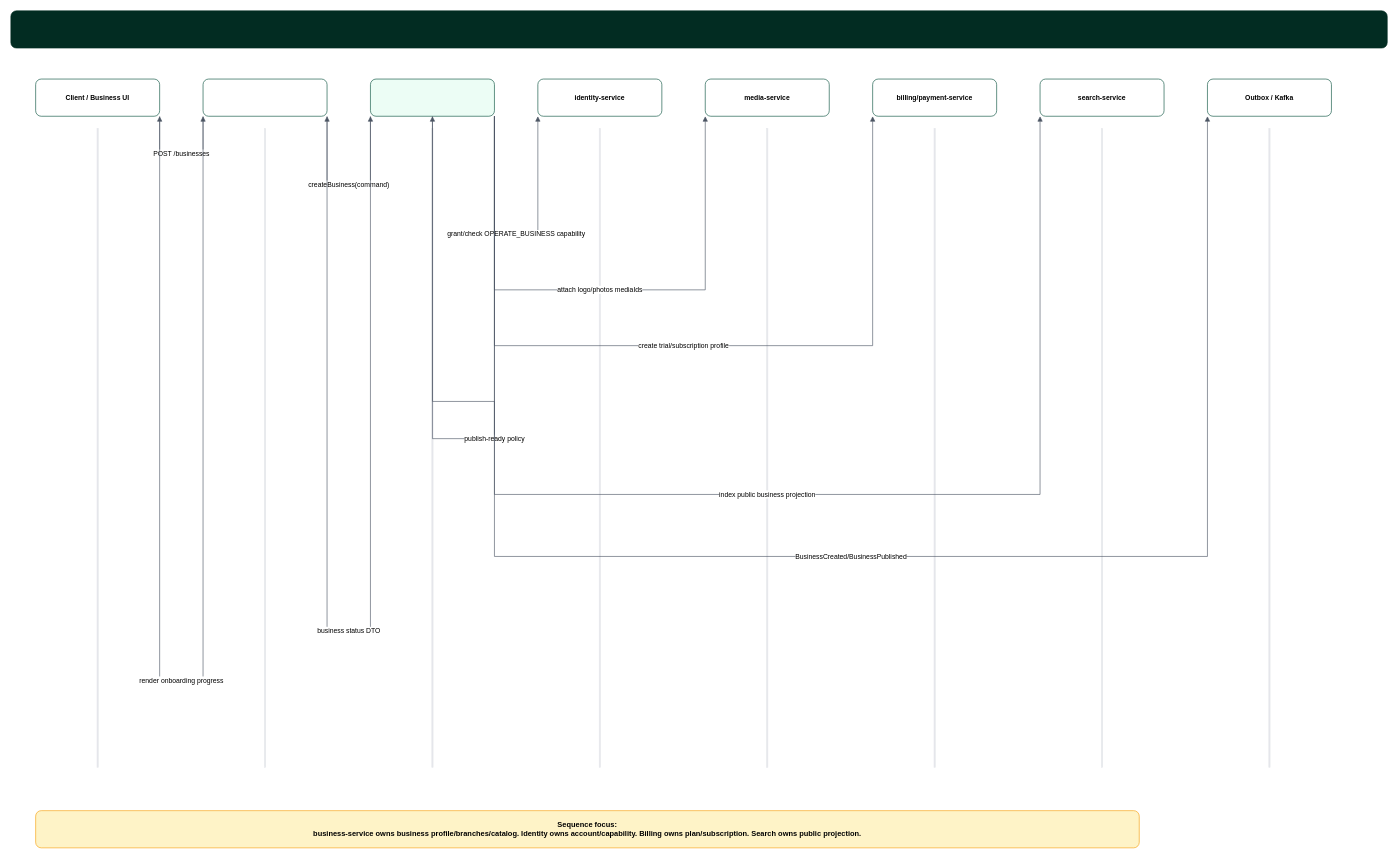
Image size: 1398x859. Some labels were removed from this diagram. Here are the shapes that lost their labels. From the top down, the centre of each, then its label:
At point 698,29: "Viaverse Business Account Onboarding — Sequence Diagram".
At point 264,97: "API Gateway / BFF".
At point 432,97: "business-service".
